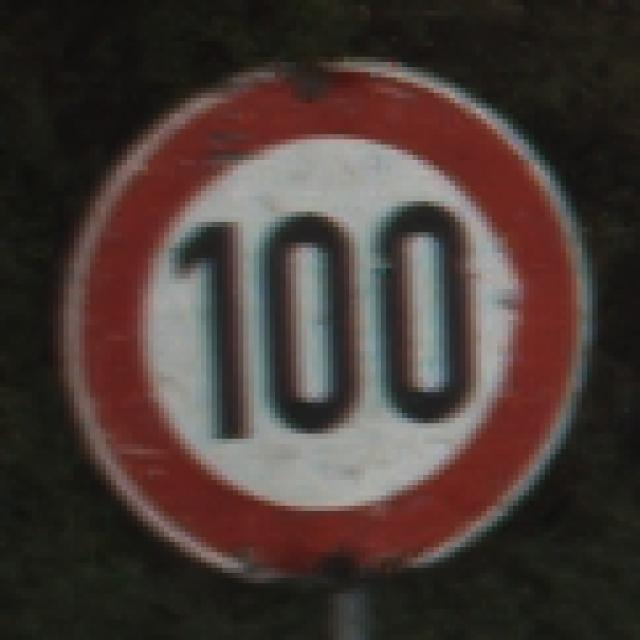speed limit 100: (50, 54, 614, 586)
